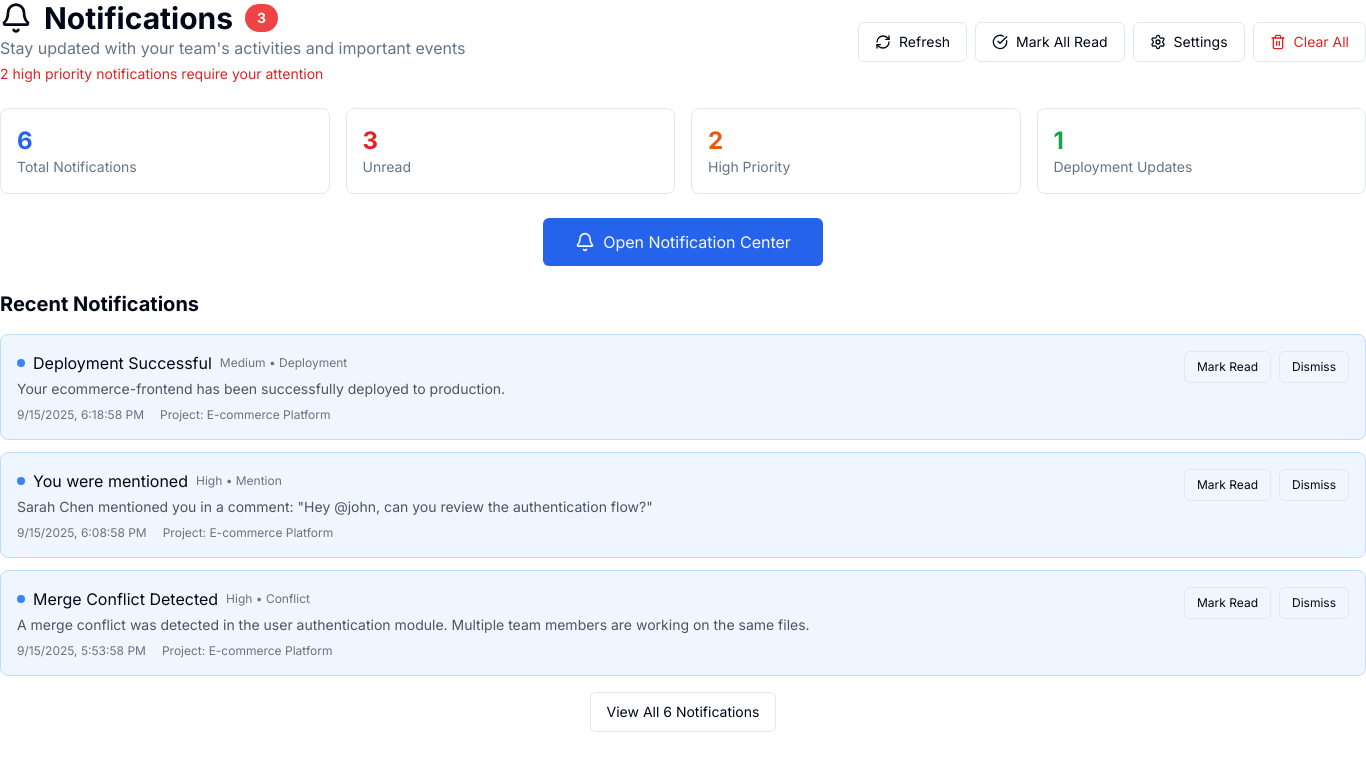
Notifications Page › opens settings when settings button is clicked
Click the button "Settings": (1189, 42) [1133,22,1245,62]
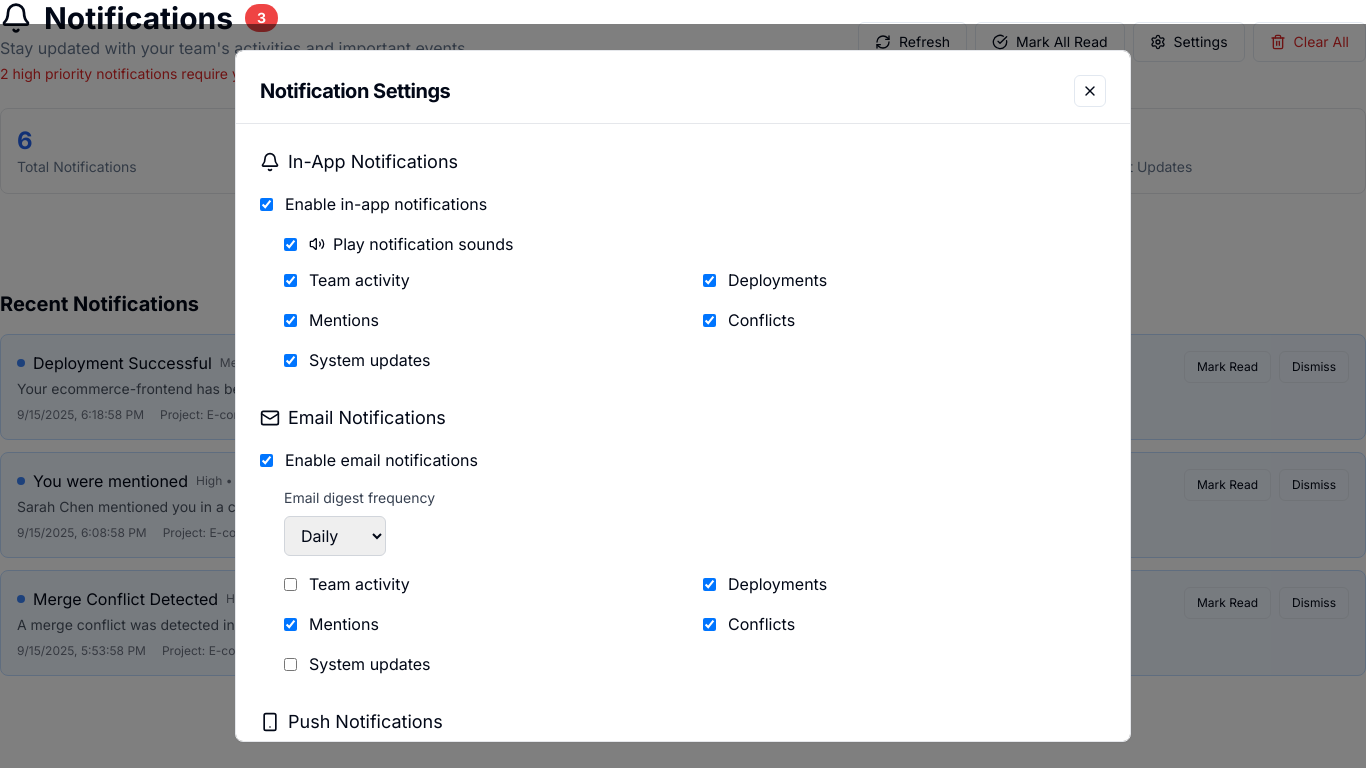
Expected: the heading "Notification Settings" is shown, [260,77,450,105]
